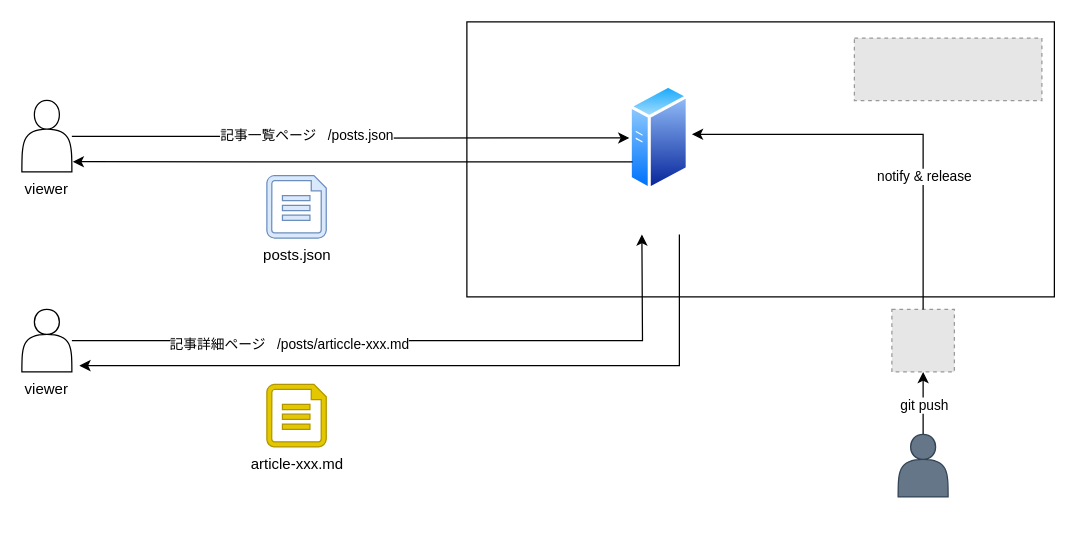
Image size: 1076x545. Some labels were removed from this diagram. Grey dashed boxes stand in for pictures. Each missing label, with the centre of its shape:
editor: (922,465)
Web server: (659,137)
